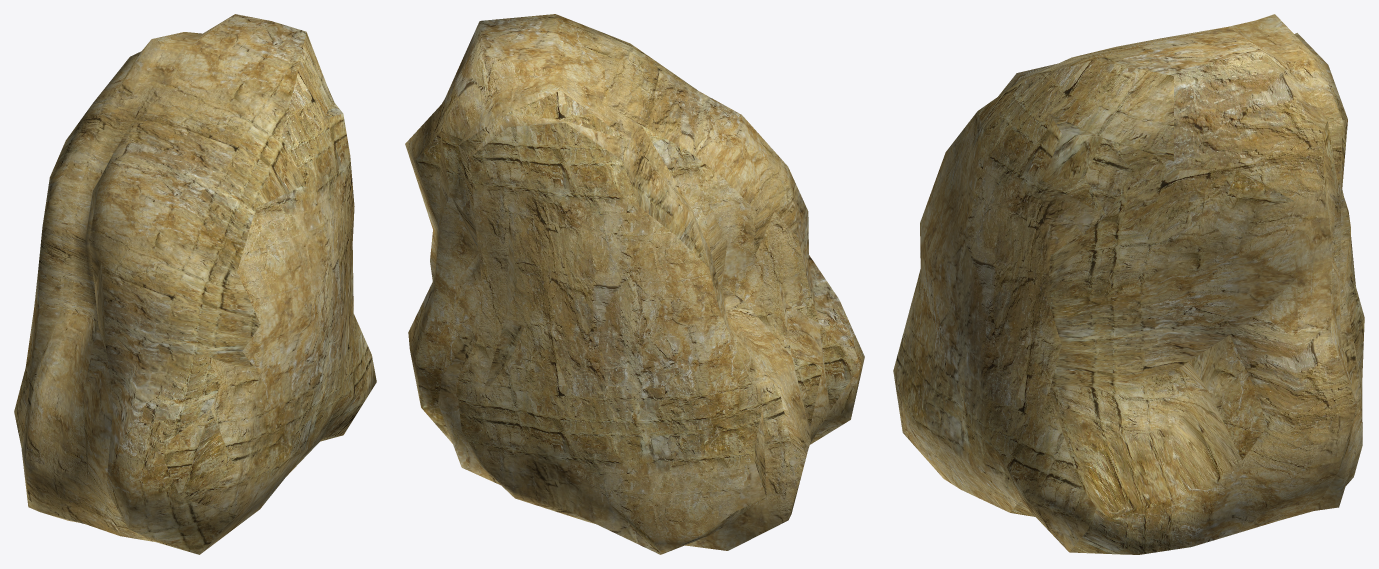
File: Boulder5.dae
3 renders of one model, left to right at view 1: azimuth 30°, elevation 25°; view 2: azimuth 150°, elevation 25°; view 3: azimuth 270°, elevation 25°, orthographic. The views are drawn at different scales.
Visible parts, largest first — view 1: rock0; view 2: rock0; view 3: rock0.
Part boxes in pixels (bbox=[...]): rock0: bbox=[14, 14, 376, 554]; rock0: bbox=[405, 14, 864, 554]; rock0: bbox=[893, 14, 1364, 554].
Bounding box in the file's own units: 1.46 × 1.4 × 1.83.
